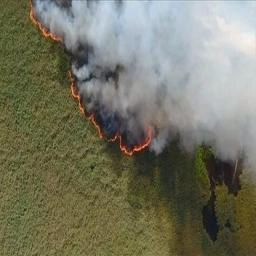Heavy smoke: (112, 3, 256, 119), (58, 0, 137, 74)
Medium fire: (25, 0, 165, 154)
